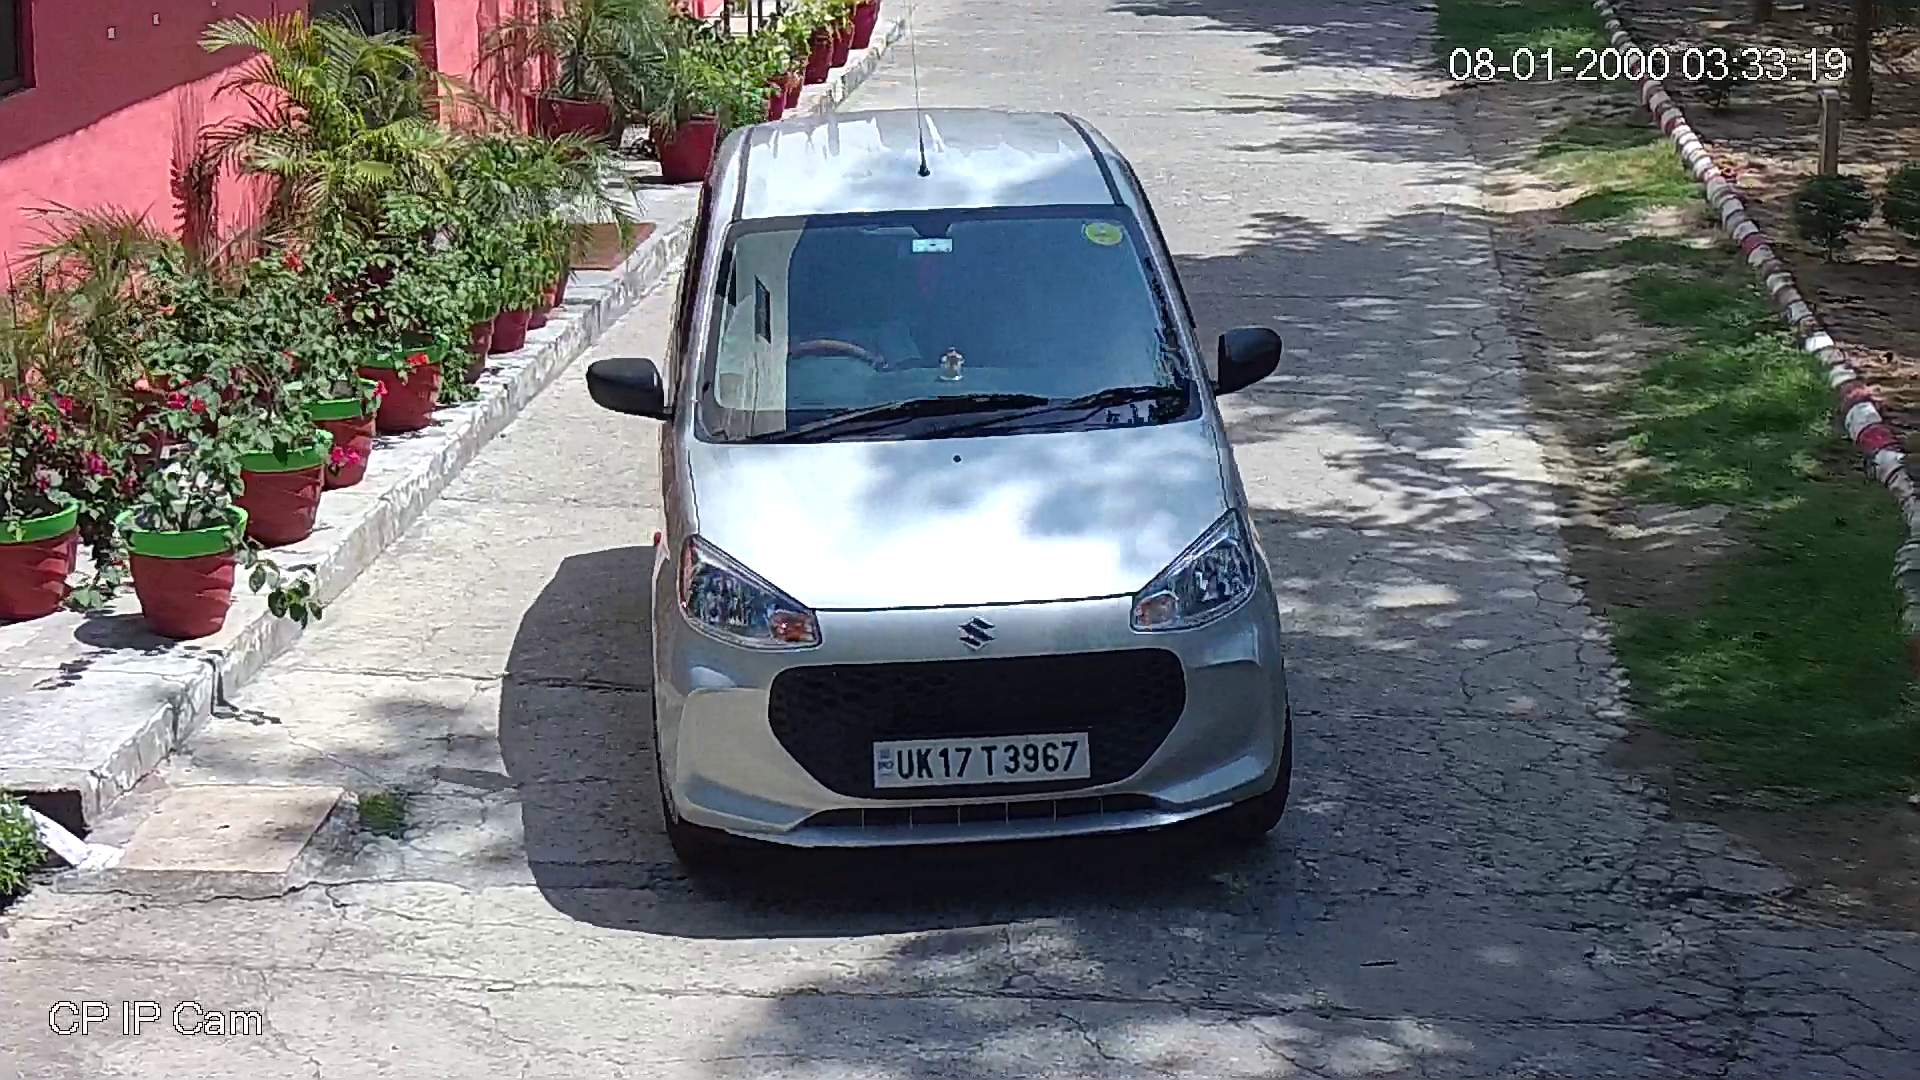plate: (865, 722, 1096, 804)
